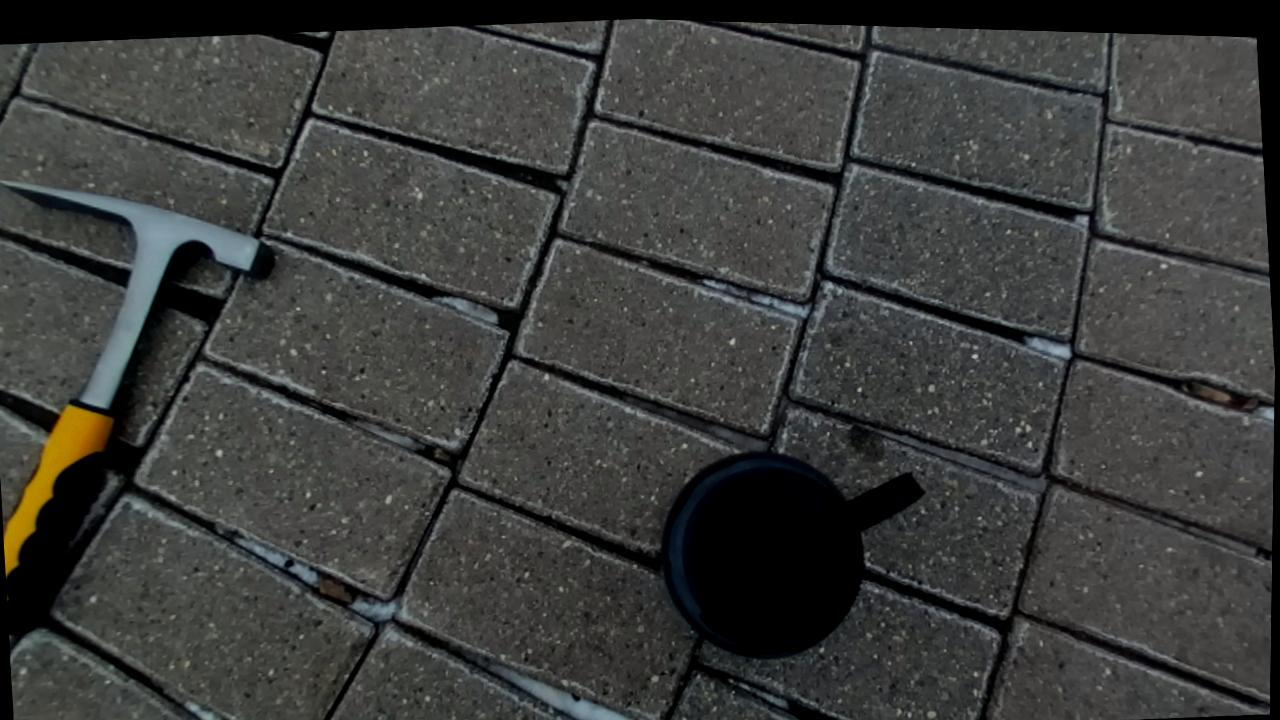bottle: (661, 452, 923, 656)
pick: (0, 181, 273, 632)
